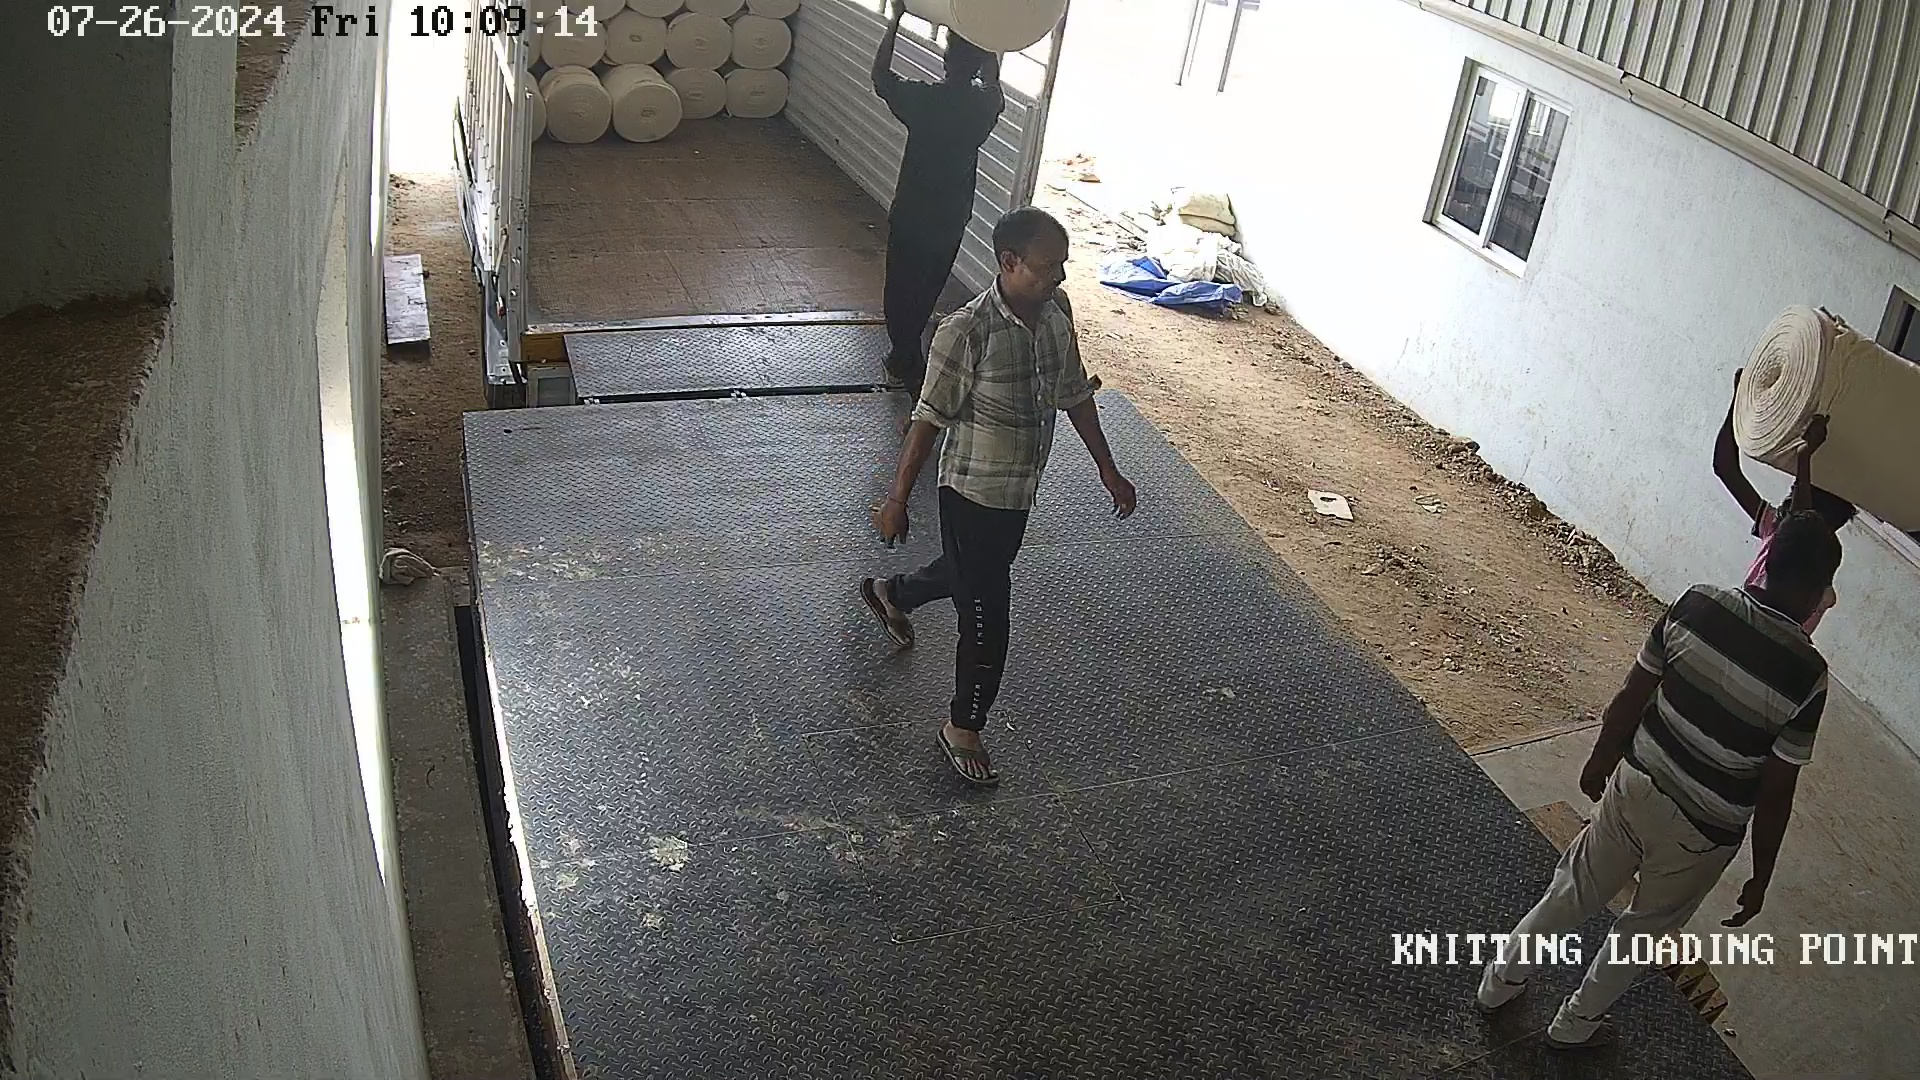bag: (1718, 305, 1920, 529)
